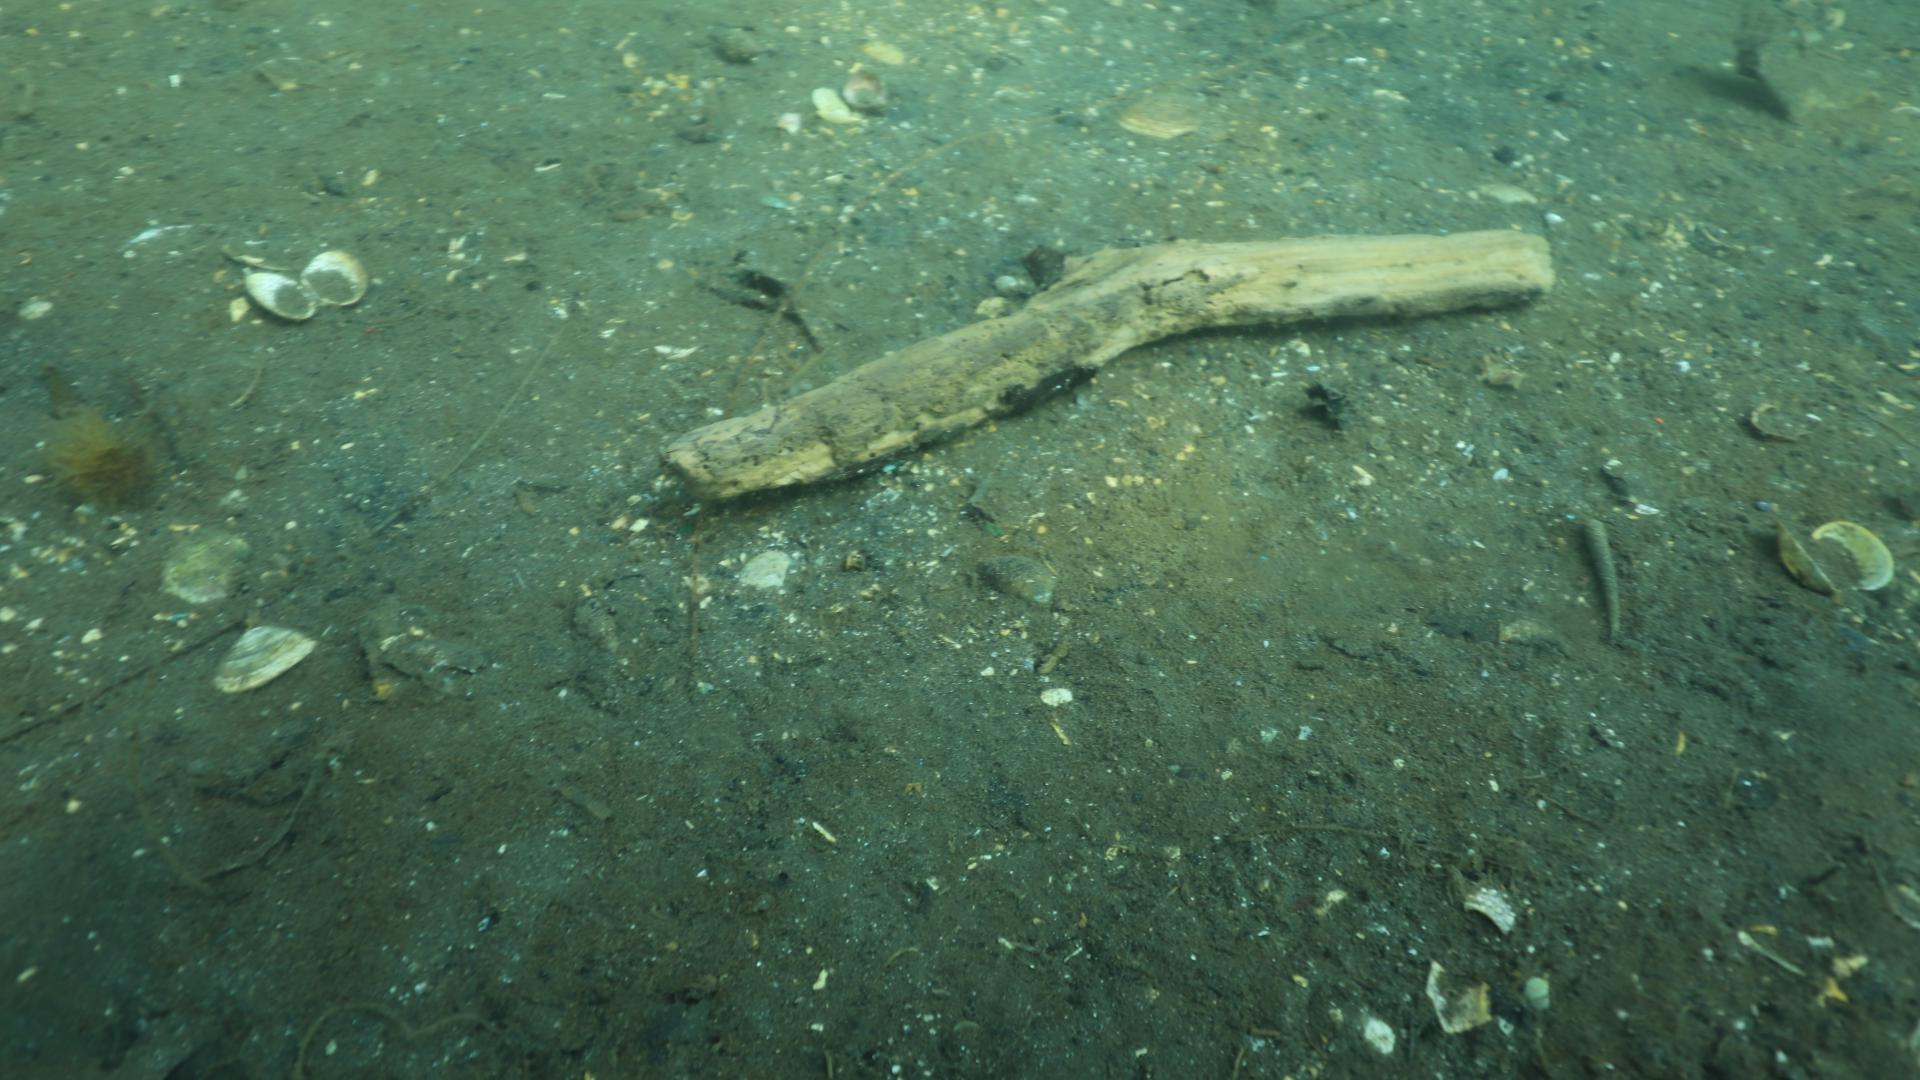wood: (665, 225, 1556, 498)
